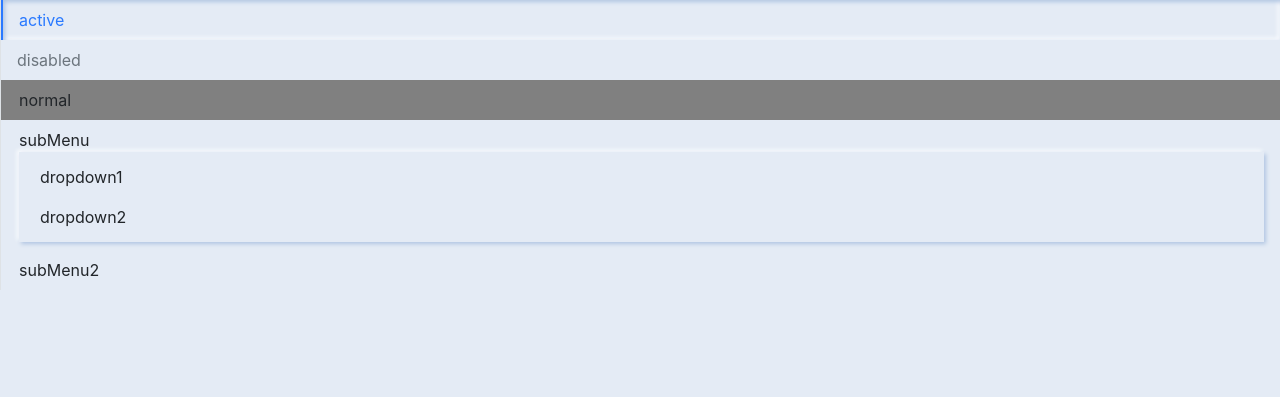
test Menu and MenuItem component in vertical mode › should show dropdown when subMenu is clicked
The width and height of the screenshot is (1280, 397).
Check: the text "dropdown3" is not shown
Click the text "subMenu2": (59, 270) x1=19 y1=260 x2=99 y2=280
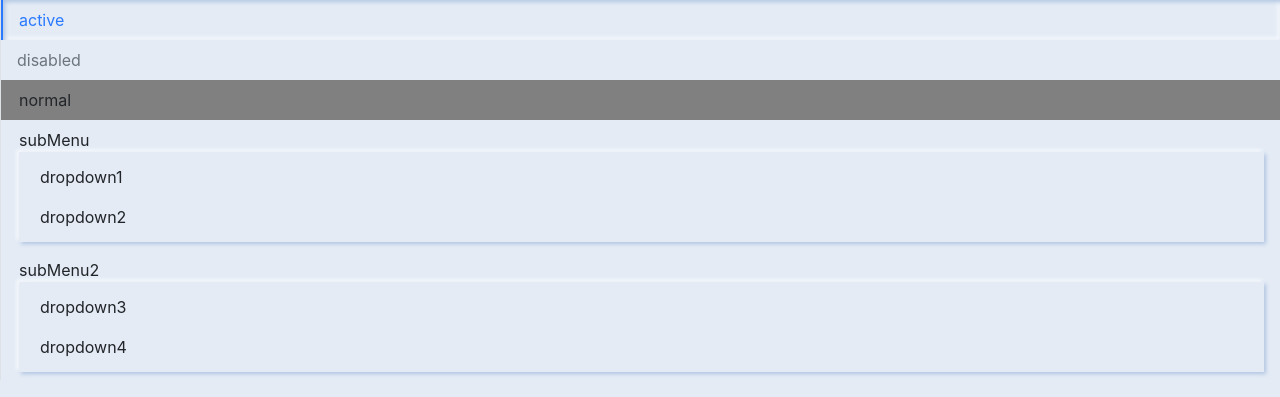
Check: the list item "dropdown3" is shown, box x1=40 y1=297 x2=126 y2=317
